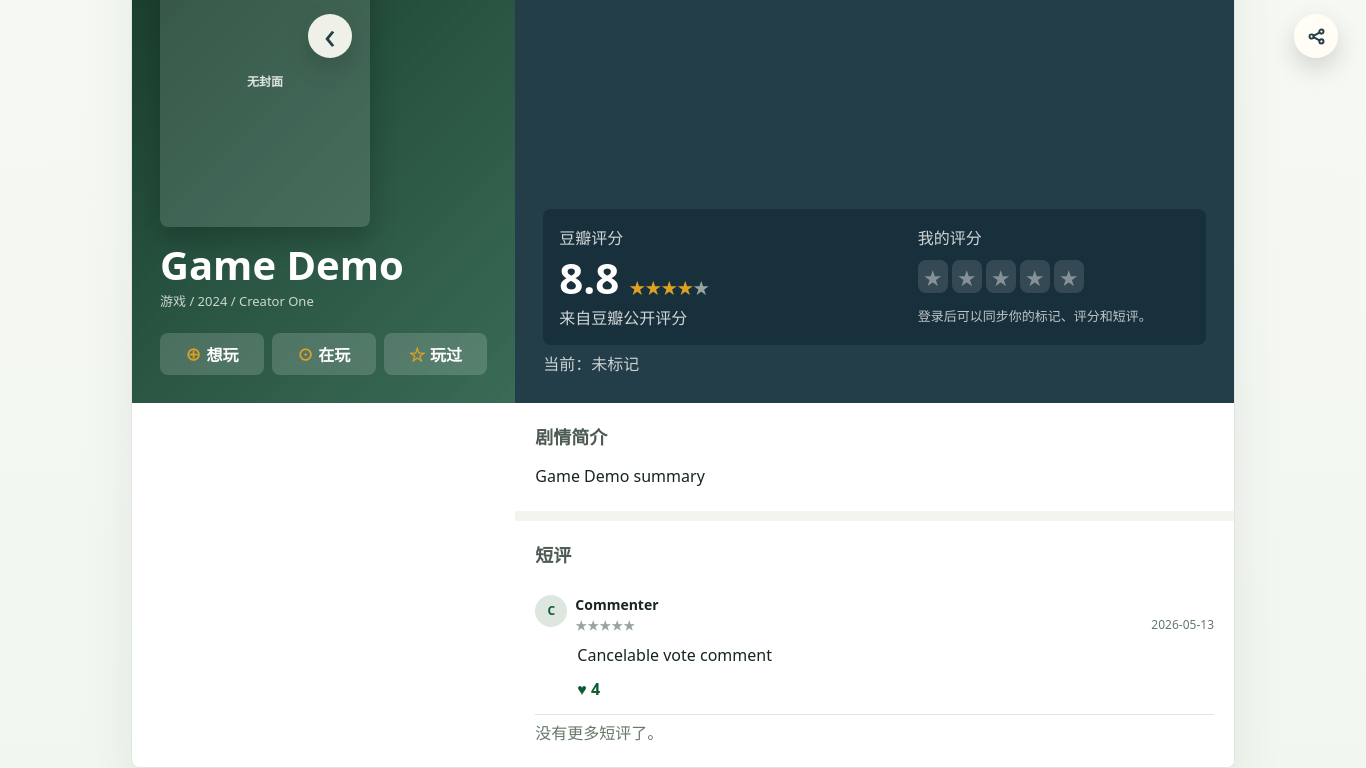
Test case: SubjectDetailPage › keeps voted comments clickable when cancel support is explicit
This screenshot has width=1366, height=768.
(page scrolled)
Click the button with class "is-active".
click(589, 689)  # box [577,678,600,700]
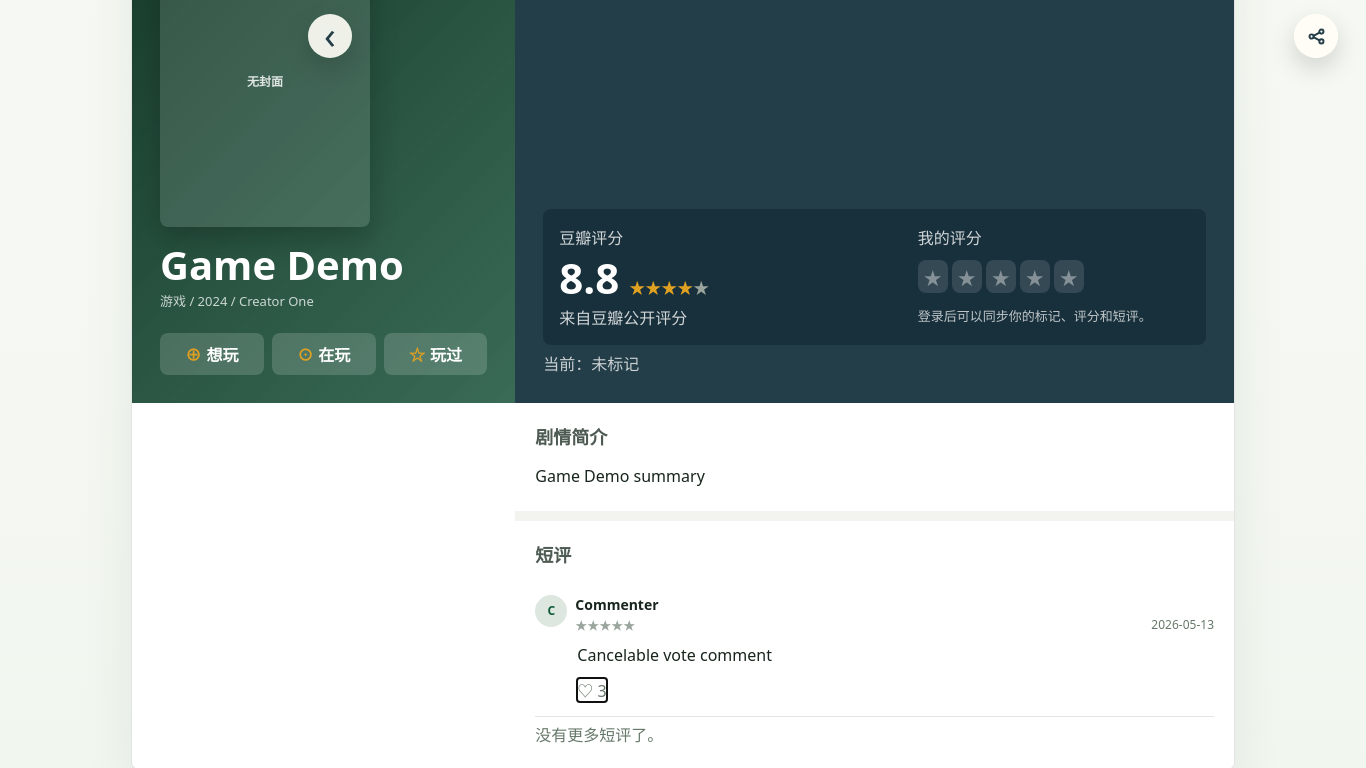
Now the button with class "is-active" shows "3", box [577,678,607,702]
